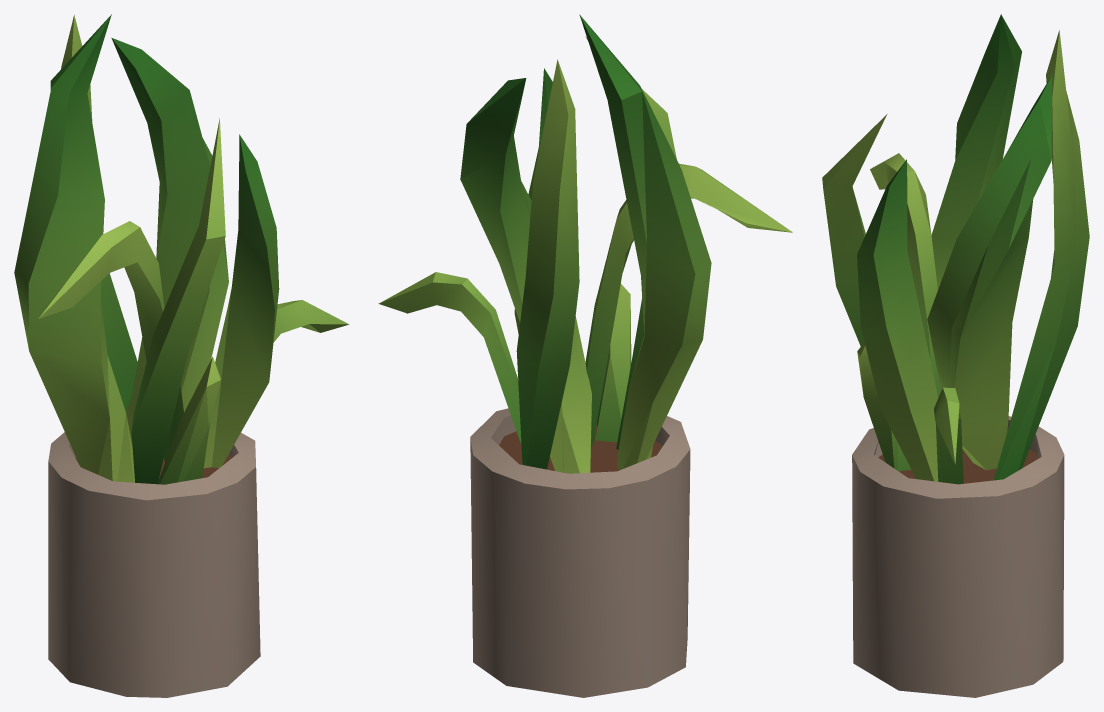
File: SM_Props_Plant_01.fbx
The picture shows the model from 3 angles, left to right: view 1: azimuth 30°, elevation 25°; view 2: azimuth 150°, elevation 25°; view 3: azimuth 270°, elevation 25°; orthographic projection. The views are drawn at different scales.
Visible parts, largest first — view 1: SM_Props_Plant_01; view 2: SM_Props_Plant_01; view 3: SM_Props_Plant_01.
Boxes of the visible parts, <box> form: SM_Props_Plant_01: <box>14,14,349,697</box>; SM_Props_Plant_01: <box>378,14,792,697</box>; SM_Props_Plant_01: <box>822,14,1089,697</box>.
Size of the model in its own units: 0.5926 by 1.01 by 0.3875.
